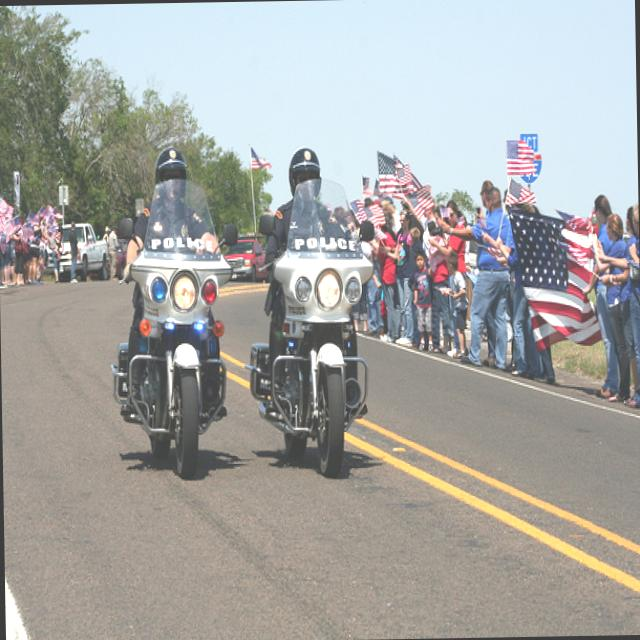Vehicle: (240, 177, 382, 486), (128, 176, 232, 474), (59, 222, 110, 280), (223, 238, 269, 280)
